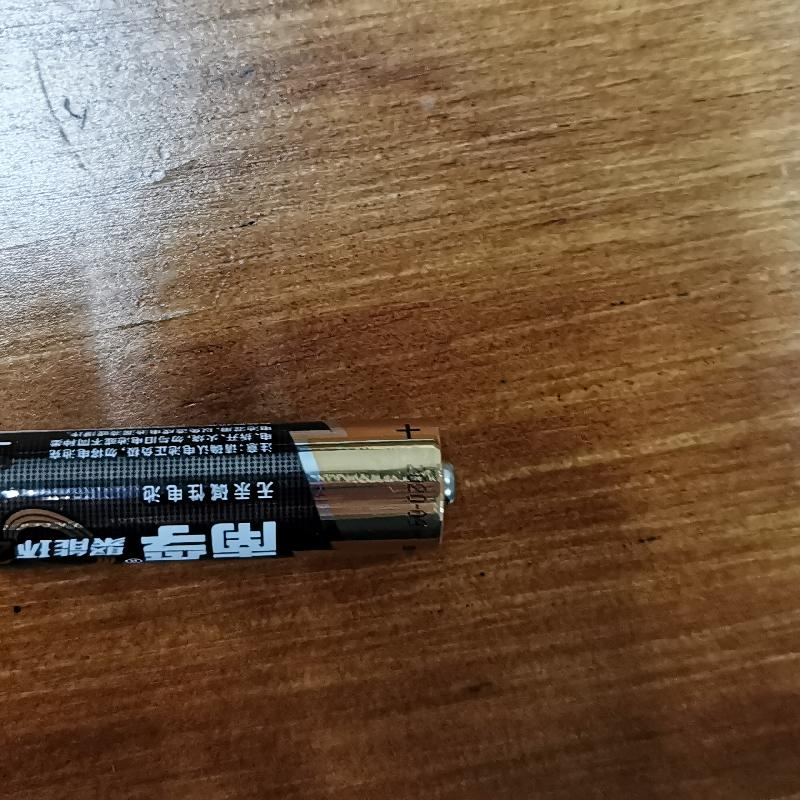battery: (2, 413, 462, 567)
